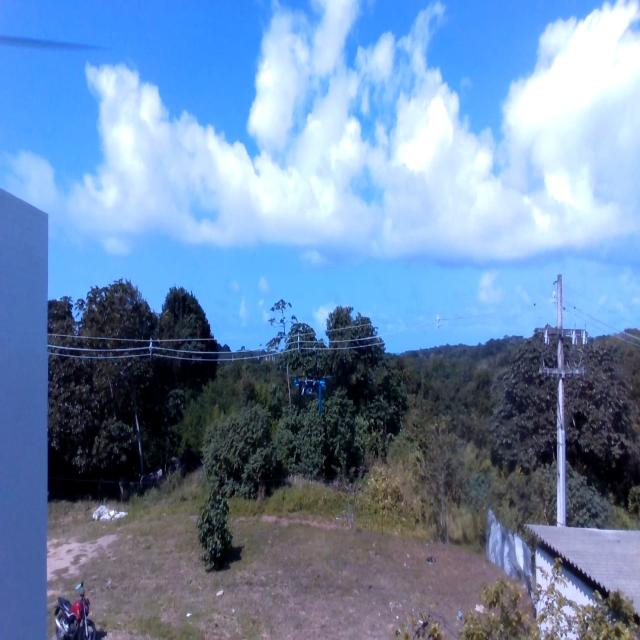-uav-: (295, 370, 328, 409)
